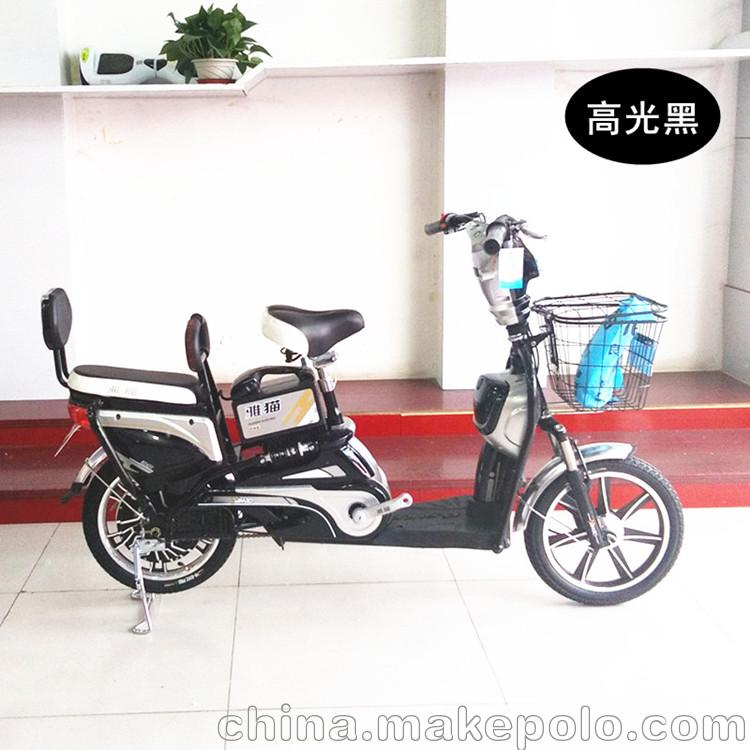电动车: (1, 198, 708, 644)
